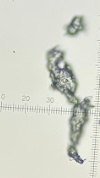microplastic: (46, 45, 79, 105), (69, 96, 95, 145), (66, 15, 84, 35), (67, 146, 86, 164)
